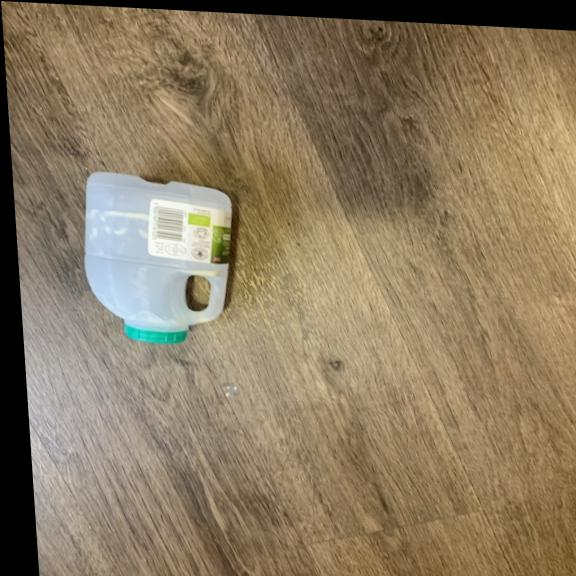Plastik: (70, 165, 245, 347)
